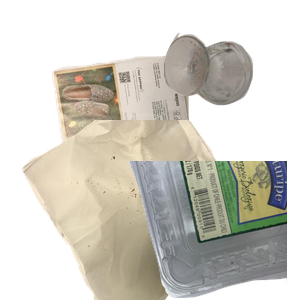glass: (161, 30, 300, 128)
paper: (49, 51, 235, 212)
plastic: (60, 161, 300, 300)
trash: (20, 120, 260, 300)
